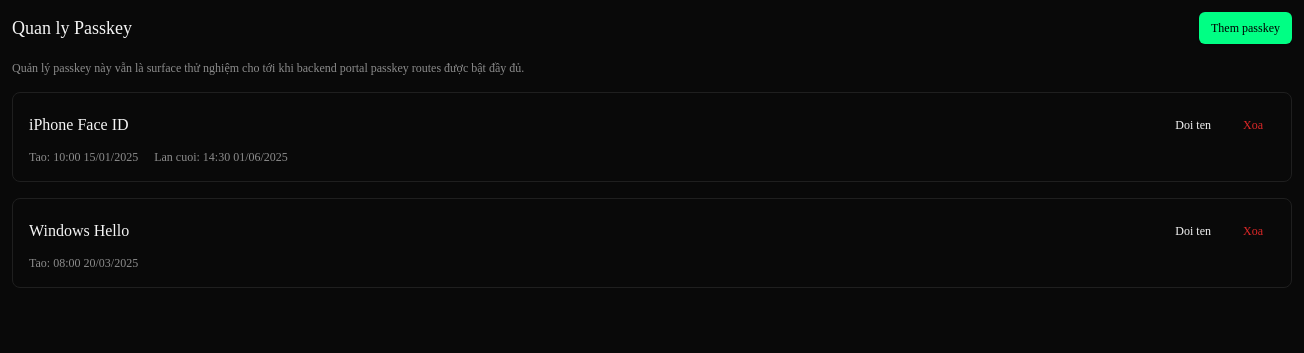
Test: PasskeyManagement › shows delete confirmation dialog
This screenshot has width=1304, height=353.
Expected: the text "iPhone Face ID" is shown, [29, 113, 128, 137]
Click the button "Xoa" in the row of "iPhone Face ID": coordinates (1253, 125) [1231, 109, 1275, 141]
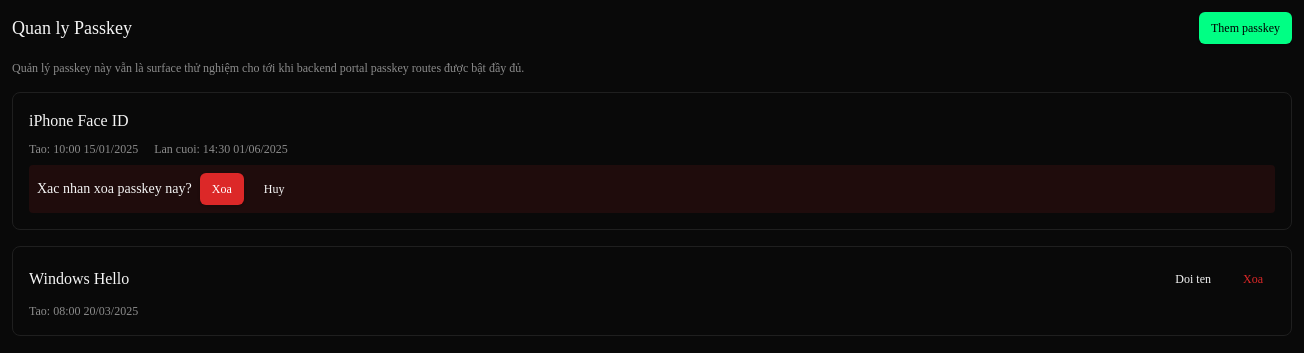
Expected: the text "Xac nhan xoa passkey nay?" is shown, [37, 179, 192, 199]
